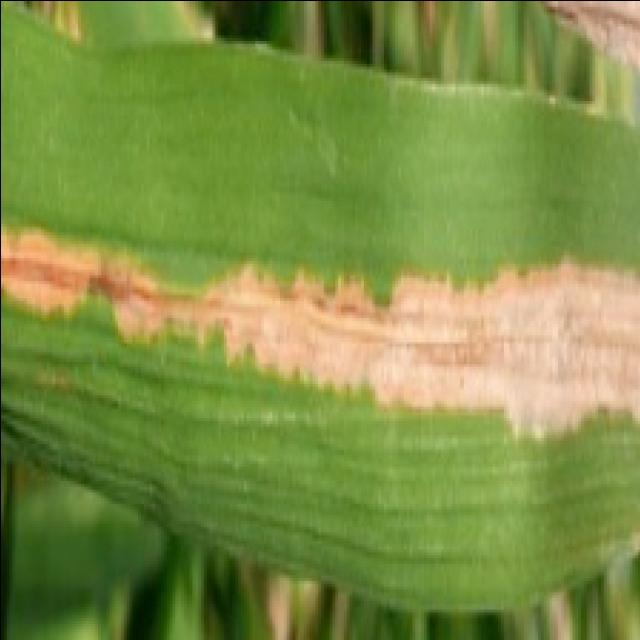Unhealthy: (0, 225, 640, 444)
